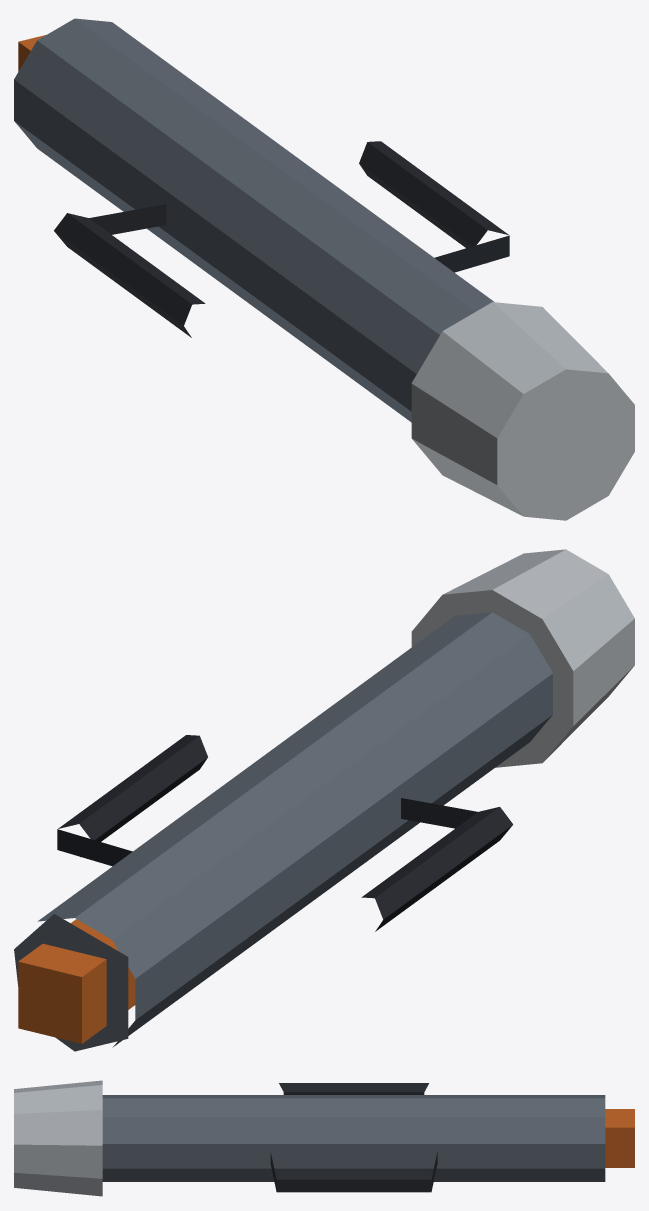
The model's file is portable-ram.lod.glb.
3 views of the same model, one above another, from view 1: azimuth 30°, elevation 25°; view 2: azimuth 150°, elevation 25°; view 3: azimuth 270°, elevation 25° (orthographic). The views are drawn at different scales.
Parts seen in each view (by area): view 1: m; view 2: m; view 3: m.
Part boxes in pixels (x1=…): m: x1=14, y1=18, x2=634, y2=520; m: x1=14, y1=549, x2=634, y2=1051; m: x1=14, y1=1080, x2=634, y2=1196.
Bounding box in the file's own units: 0.1784 × 0.093 × 0.4884.
